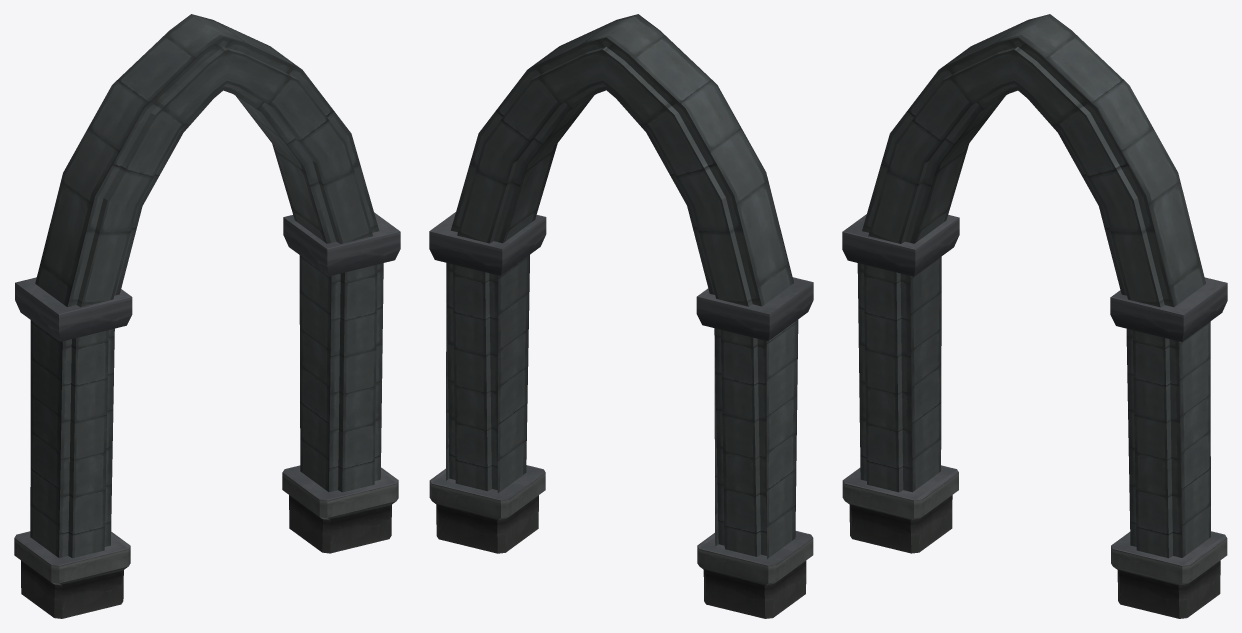
File: pillar_type003.FBX
3 views of the same model, side by side, from view 1: azimuth 30°, elevation 25°; view 2: azimuth 150°, elevation 25°; view 3: azimuth 330°, elevation 25° (orthographic).
Visible parts, largest first — view 1: pillar_type003; view 2: pillar_type003; view 3: pillar_type003.
Boxes of the visible parts, x1=… form: pillar_type003: x1=14, y1=14, x2=400, y2=618; pillar_type003: x1=429, y1=14, x2=813, y2=618; pillar_type003: x1=842, y1=14, x2=1227, y2=618.
Bounding box in the file's own units: 941 × 1398 × 207.
Materials: 1 (1 with a texture image).
